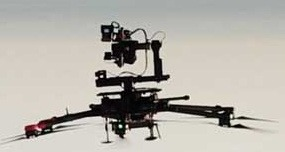drone: (7, 21, 260, 145)
